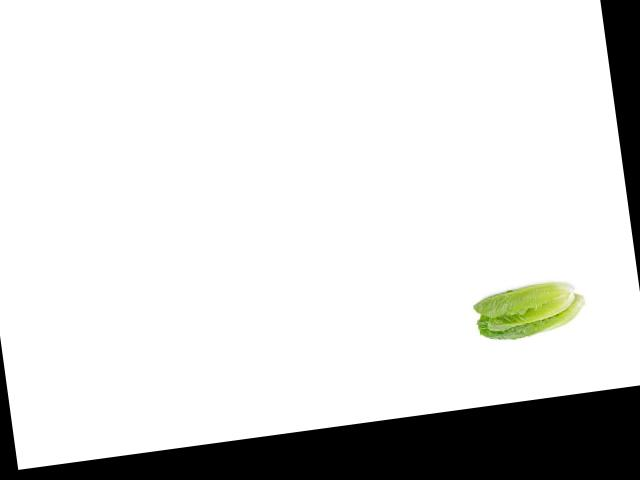lettuce: (469, 271, 587, 344)
